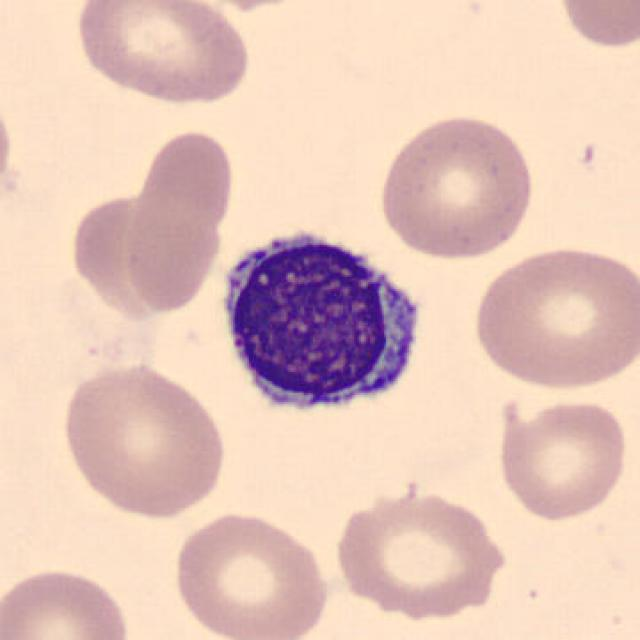Lymphocyte: (208, 214, 432, 431)
RBC: (57, 358, 231, 520), (466, 238, 638, 393), (329, 481, 512, 621), (373, 109, 539, 263), (114, 125, 233, 321), (169, 506, 332, 640), (69, 0, 256, 108), (491, 395, 631, 524), (66, 189, 192, 319), (134, 127, 238, 234), (0, 562, 137, 640), (551, 0, 638, 53), (162, 0, 334, 14), (0, 81, 16, 217)
